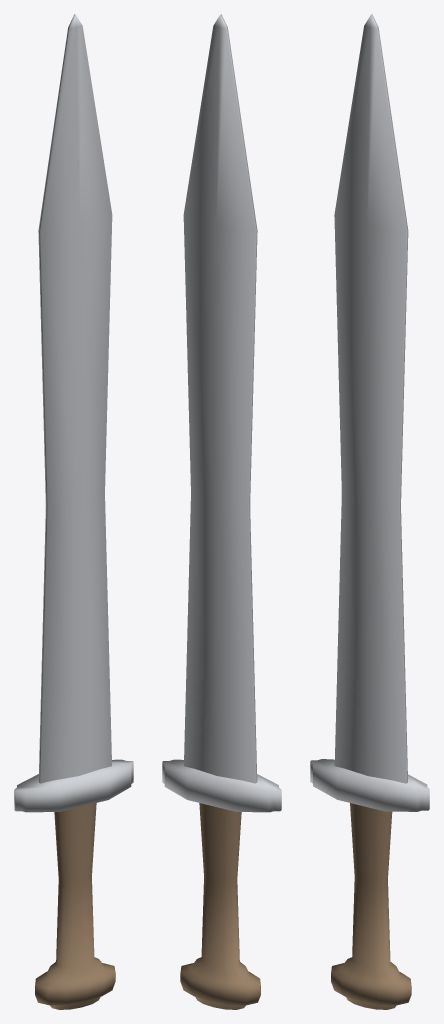
The model's file is weapon_echo_blade_3.glb.
The picture shows the model from 3 angles, left to right: view 1: azimuth 30°, elevation 25°; view 2: azimuth 150°, elevation 25°; view 3: azimuth 330°, elevation 25°; orthographic projection.
Parts seen in each view (by area): view 1: echo_blade_3; view 2: echo_blade_3; view 3: echo_blade_3.
Boxes of the visible parts, bbox=[...] form: echo_blade_3: bbox=[14, 14, 133, 1009]; echo_blade_3: bbox=[162, 14, 281, 1009]; echo_blade_3: bbox=[310, 14, 429, 1009].
Size of the model in its own units: 0.1436 by 1.15 by 0.053.
